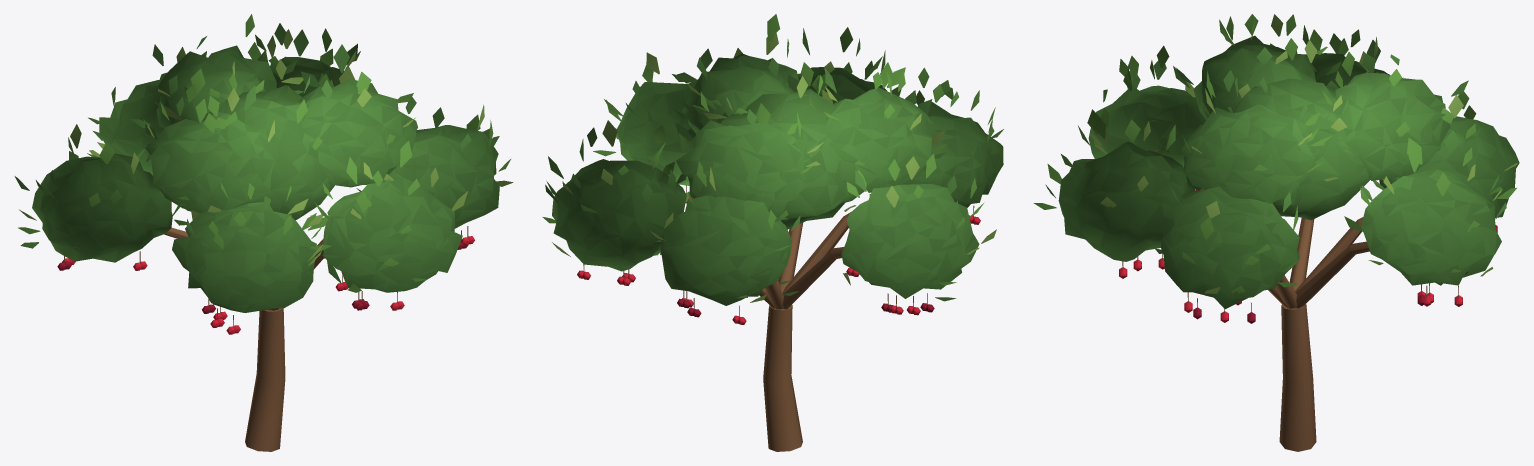
File: ZB_agac_sidr_a4.glb
3 renders of one model, left to right at view 1: azimuth 30°, elevation 25°; view 2: azimuth 150°, elevation 25°; view 3: azimuth 270°, elevation 25°, orthographic. The views are drawn at different scales.
Parts seen in each view (by area): view 1: ZB_agac_sidr_a4; view 2: ZB_agac_sidr_a4; view 3: ZB_agac_sidr_a4.
Boxes of the visible parts, <box> form: ZB_agac_sidr_a4: <box>14,14,513,451</box>; ZB_agac_sidr_a4: <box>542,14,1003,451</box>; ZB_agac_sidr_a4: <box>1033,14,1519,451</box>.
Bounding box in the file's own units: 5.95 × 5.26 × 5.79.
